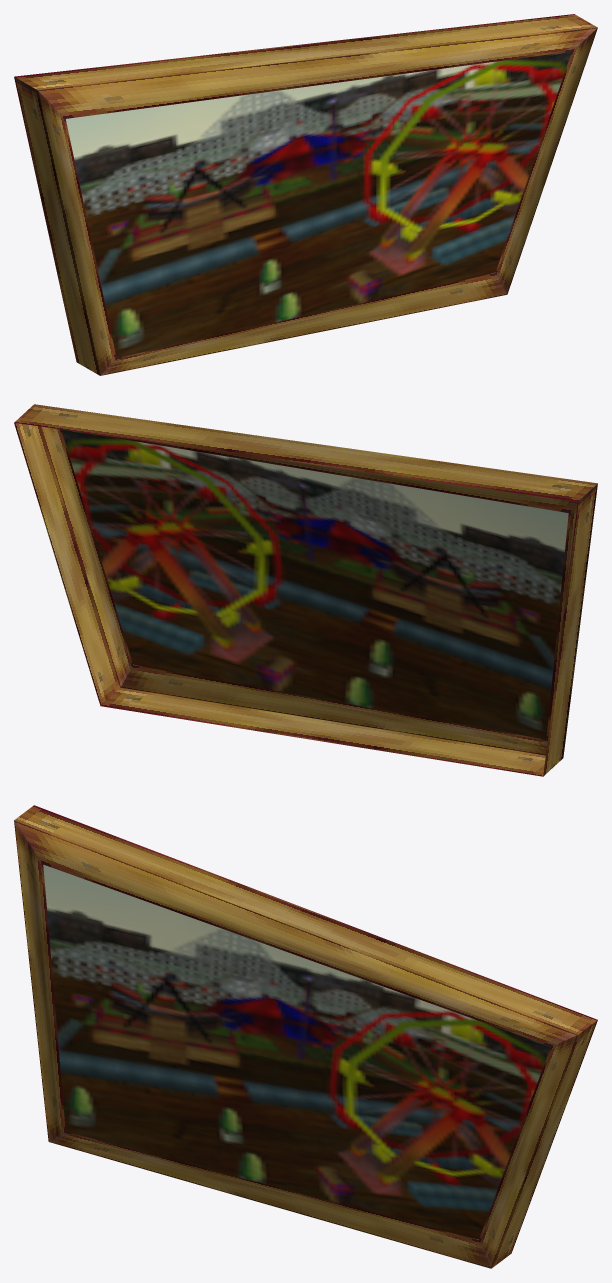
File: Beach_Funfair_Sign.FBX
The picture shows the model from 3 angles, top to bottom: view 1: azimuth 30°, elevation 25°; view 2: azimuth 150°, elevation 25°; view 3: azimuth 330°, elevation 25°; orthographic projection. The views are drawn at different scales.
Parts seen in each view (by area): view 1: sign; view 2: sign; view 3: sign.
Boxes of the visible parts, x1=… form: sign: x1=14, y1=14, x2=597, y2=375; sign: x1=14, y1=404, x2=597, y2=776; sign: x1=14, y1=805, x2=597, y2=1268.
Bounding box in the file's own units: 349 × 190 × 39.45.
